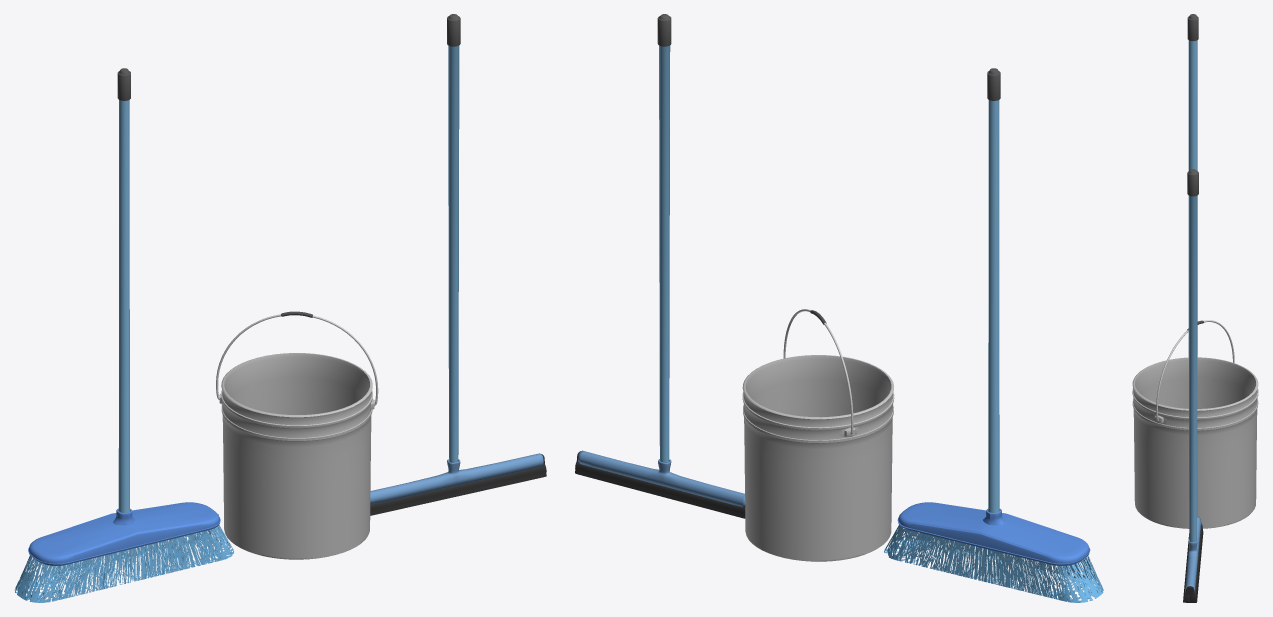
File: cleaning_Instruments.fbx
3 renders of one model, left to right at view 1: azimuth 30°, elevation 25°; view 2: azimuth 150°, elevation 25°; view 3: azimuth 270°, elevation 25°, orthographic. The views are drawn at different scales.
Parts seen in each view (by area): view 1: Bail, Base_Broom, BroomStick, GumStick, Plastic_Gum, Gum, Handle_Bail; view 2: Bail, Base_Broom, BroomStick, GumStick, Plastic_Gum, Gum; view 3: Bail, GumStick, BroomStick, Plastic_Gum, Gum, Handle_Bail.
Boxes of the visible parts, bbox=[...] form: Bail: bbox=[219, 353, 374, 559]; Base_Broom: bbox=[14, 502, 233, 602]; BroomStick: bbox=[117, 68, 130, 513]; GumStick: bbox=[447, 14, 460, 462]; Plastic_Gum: bbox=[370, 453, 543, 504]; Gum: bbox=[370, 454, 546, 515]; Handle_Bail: bbox=[216, 311, 378, 405]; Bail: bbox=[742, 355, 894, 561]; Base_Broom: bbox=[884, 502, 1103, 602]; BroomStick: bbox=[987, 68, 1000, 512]; GumStick: bbox=[657, 14, 671, 462]; Plastic_Gum: bbox=[578, 450, 744, 506]; Gum: bbox=[575, 451, 745, 518]; Bail: bbox=[1132, 357, 1258, 528]; GumStick: bbox=[1187, 169, 1198, 542]; BroomStick: bbox=[1187, 14, 1198, 357]; Plastic_Gum: bbox=[1185, 516, 1201, 592]; Gum: bbox=[1183, 524, 1203, 602]; Handle_Bail: bbox=[1156, 320, 1234, 421].
Size of the model in its own units: 499 by 461 by 126.
